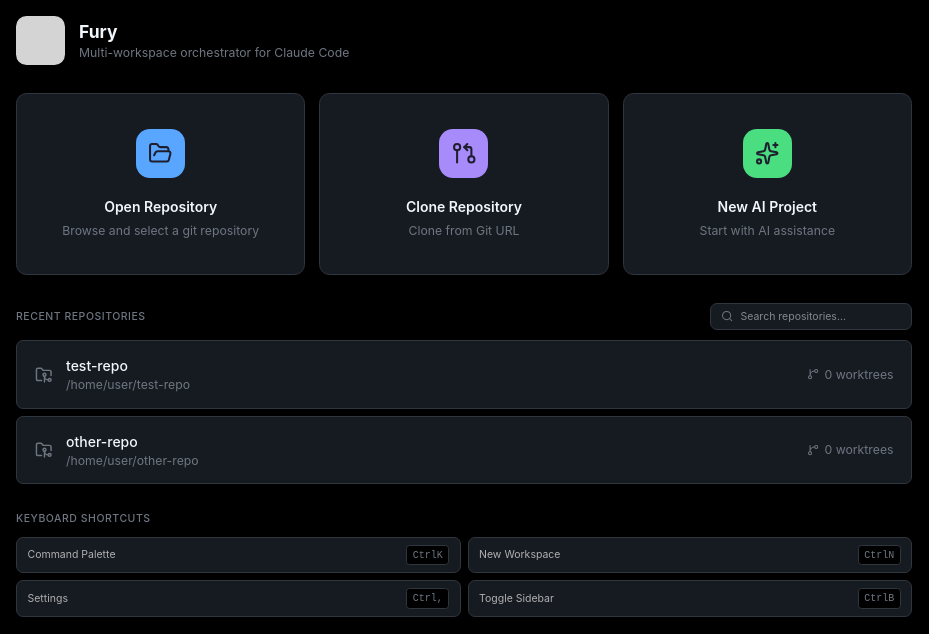
Test case: LandingPage › RecentRepositories › filters repos by path
The width and height of the screenshot is (929, 634).
Type "/home/user/other" into the field with placeholder "Search repositories..." at (820, 316), box [740,310,900,324]
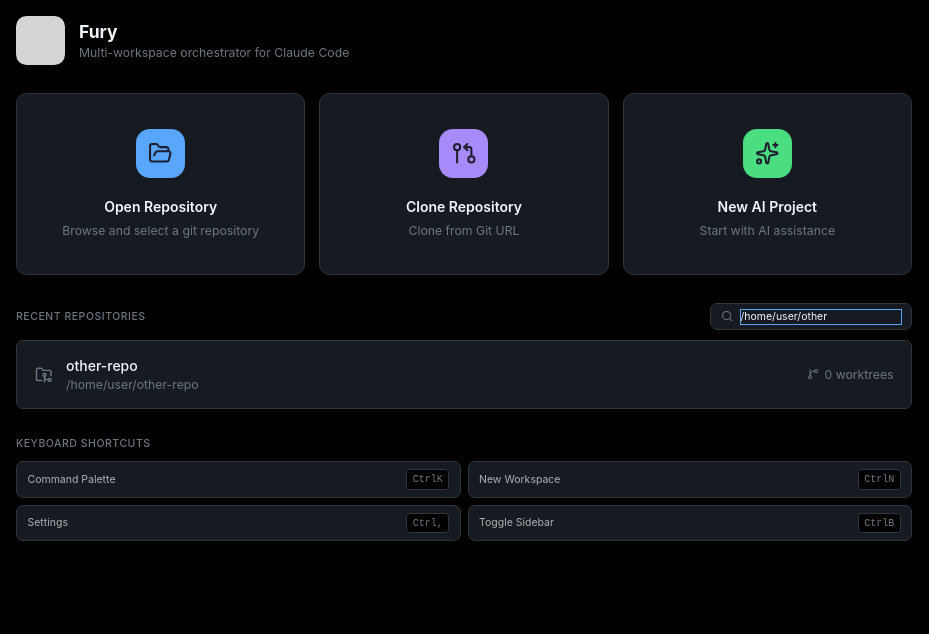
Expected: the text "other-repo" is shown, [66,357,138,374]
Expected: the button "test-repo" is gone
